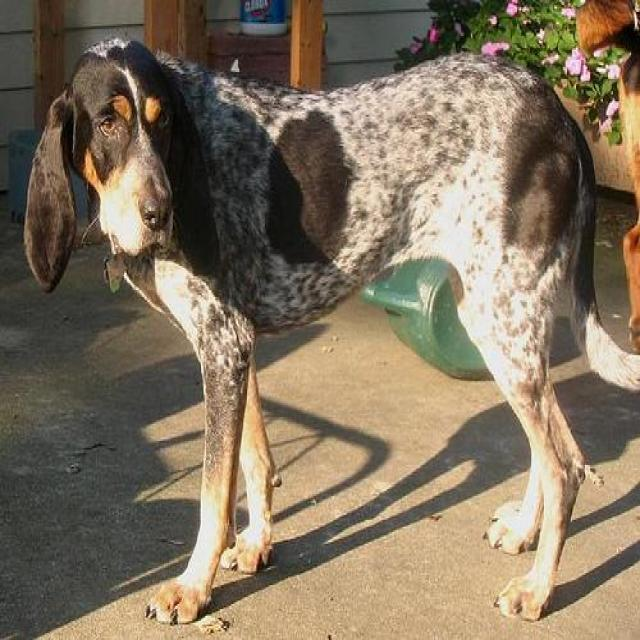good: (16, 22, 593, 623)
